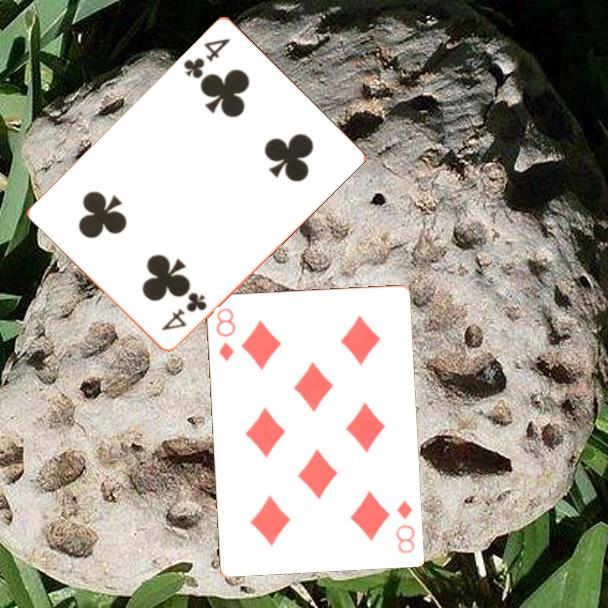c04: (180, 34, 233, 81), (158, 288, 210, 333)
d08: (212, 304, 238, 364), (392, 497, 417, 556)
